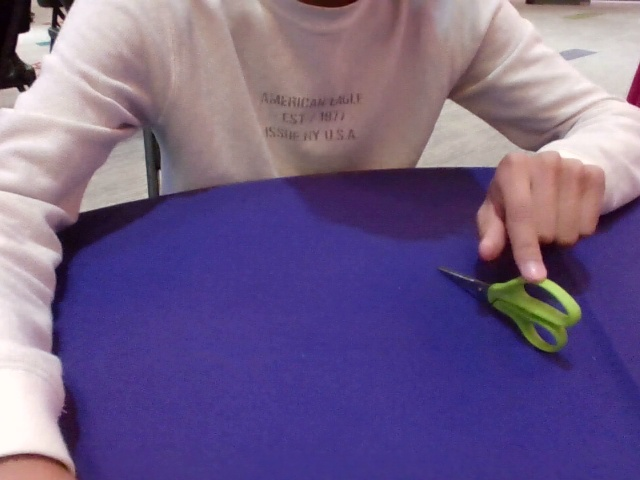tijeras: (437, 264, 582, 355)
